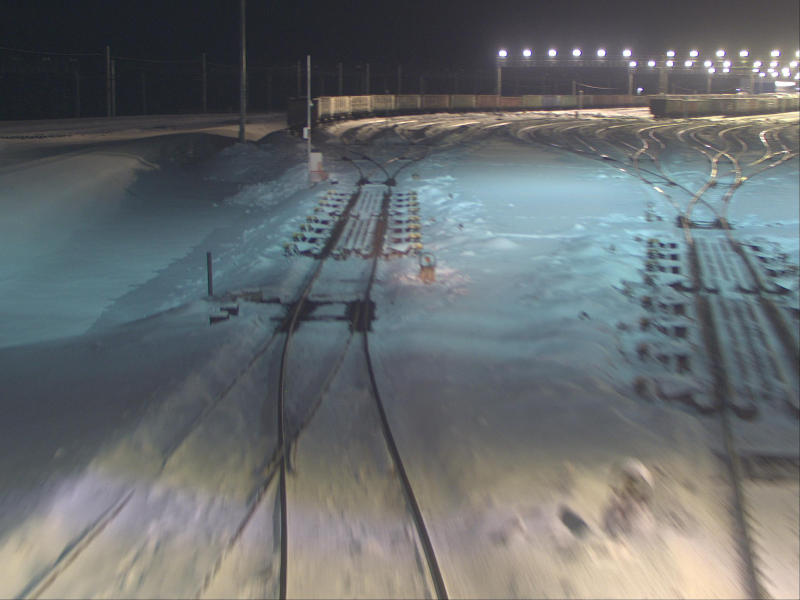railway_arrows: (358, 161, 397, 190)
